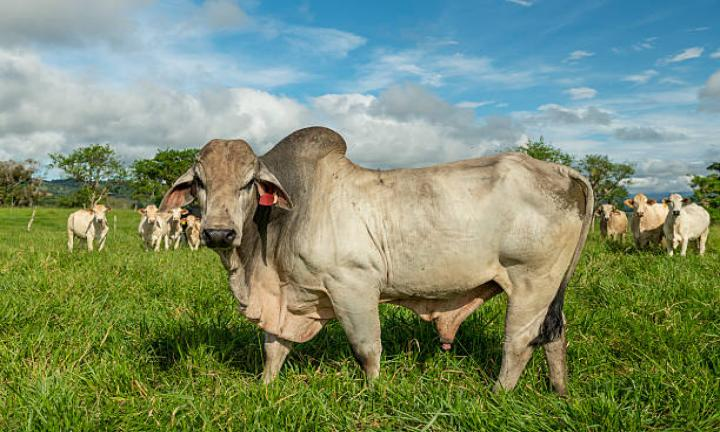Brahman: (161, 127, 592, 393)
